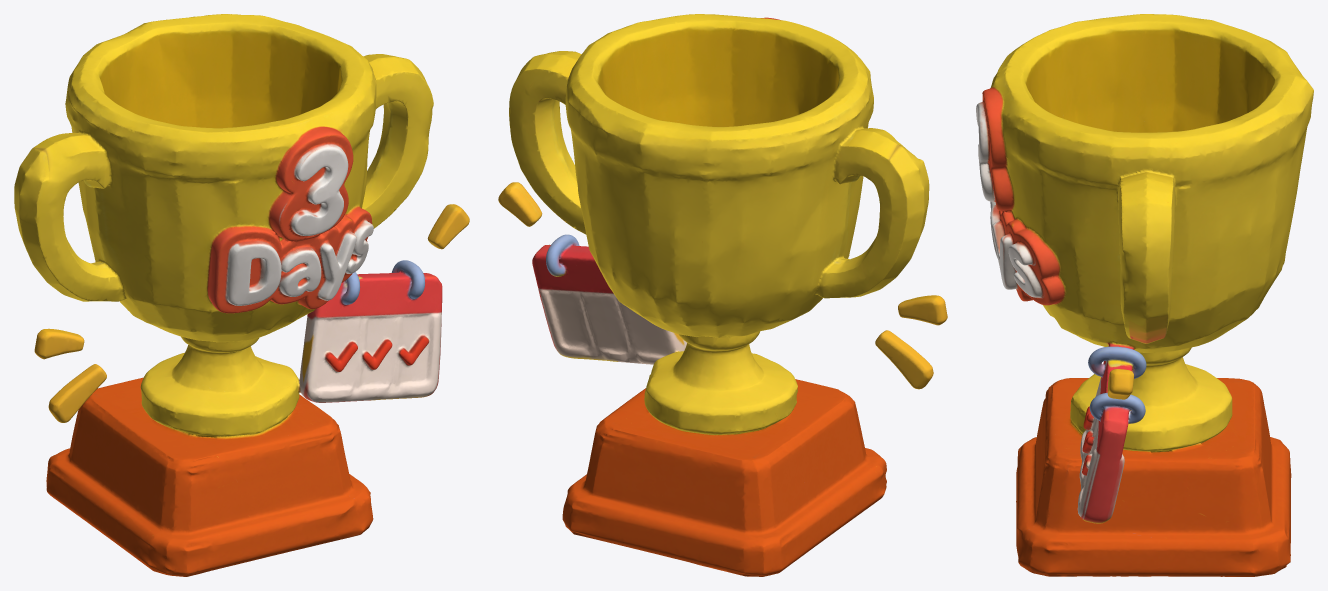
Rendered from 3days_trophy.glb.
The picture shows the model from 3 angles, left to right: view 1: azimuth 30°, elevation 25°; view 2: azimuth 150°, elevation 25°; view 3: azimuth 270°, elevation 25°; orthographic projection. The views are drawn at different scales.
Bounding box in the file's own units: 1.9 × 1.8 × 1.22.
1 material, 1 textured.
